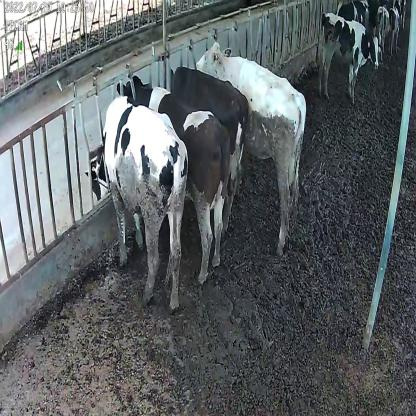cow: (113, 69, 232, 284), (193, 37, 303, 254), (85, 97, 188, 313), (161, 58, 250, 232), (314, 12, 382, 101)
